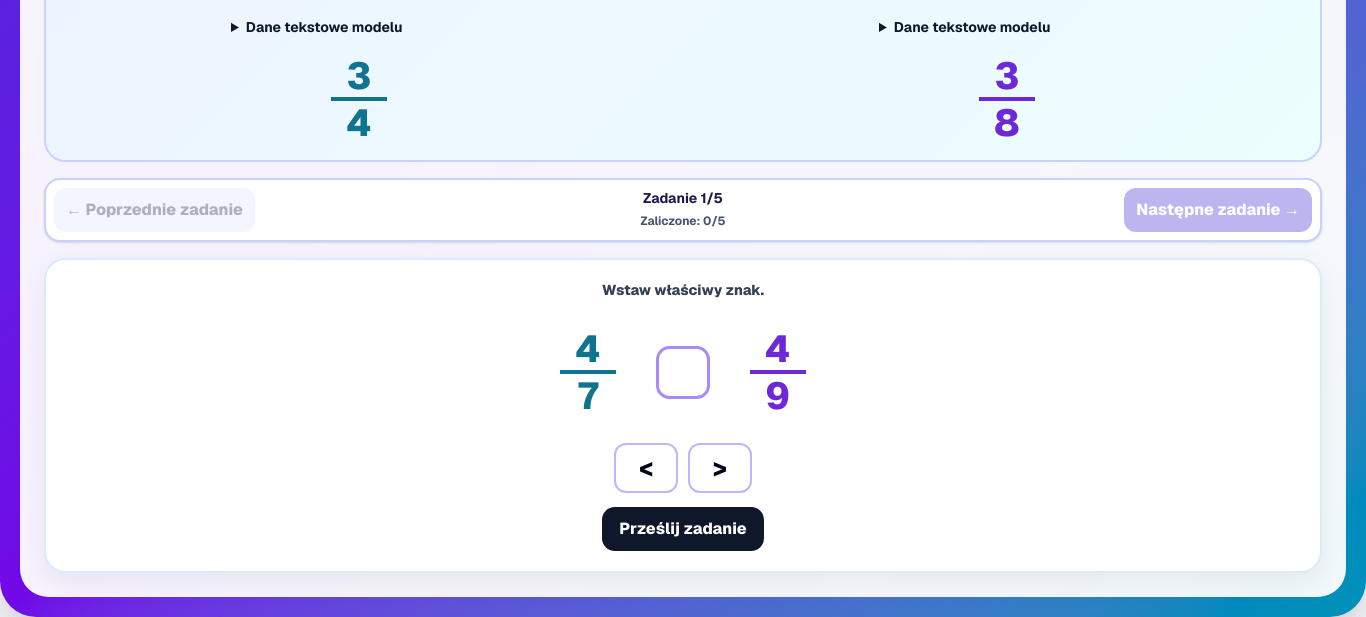
Test case: FractionComparisonLessonModel — modele, pionowy zapis, dotyk i diagnostyka › obejmuje ułamki niewłaściwe i liczby mieszane przy jednakowych licznikach
The image size is (1366, 617).
(page scrolled)
What coordinates should you click on to do the following:
click the button named "Wstaw znak >"
I would click on:
 (720, 468)
Its box is x1=688 y1=443 x2=752 y2=492.
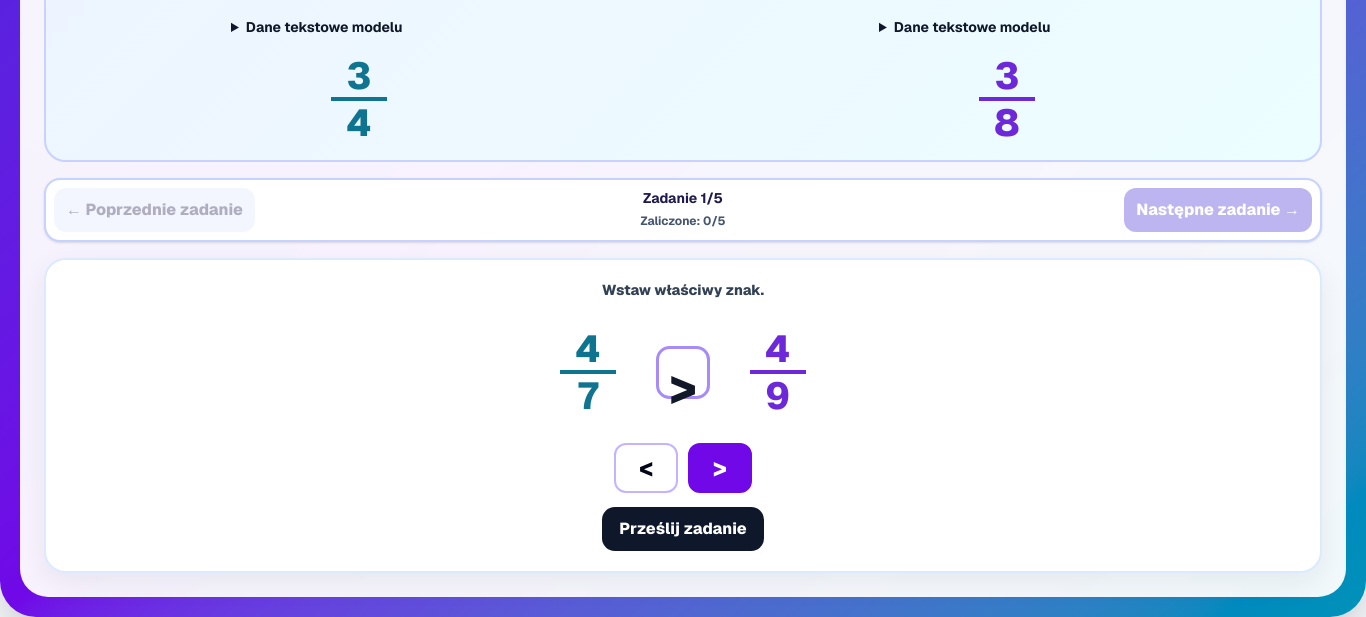
What coordinates should you click on to do the following:
click the button "Prześlij zadanie"
I would click on:
 (683, 529)
Its box is x1=602 y1=507 x2=764 y2=551.
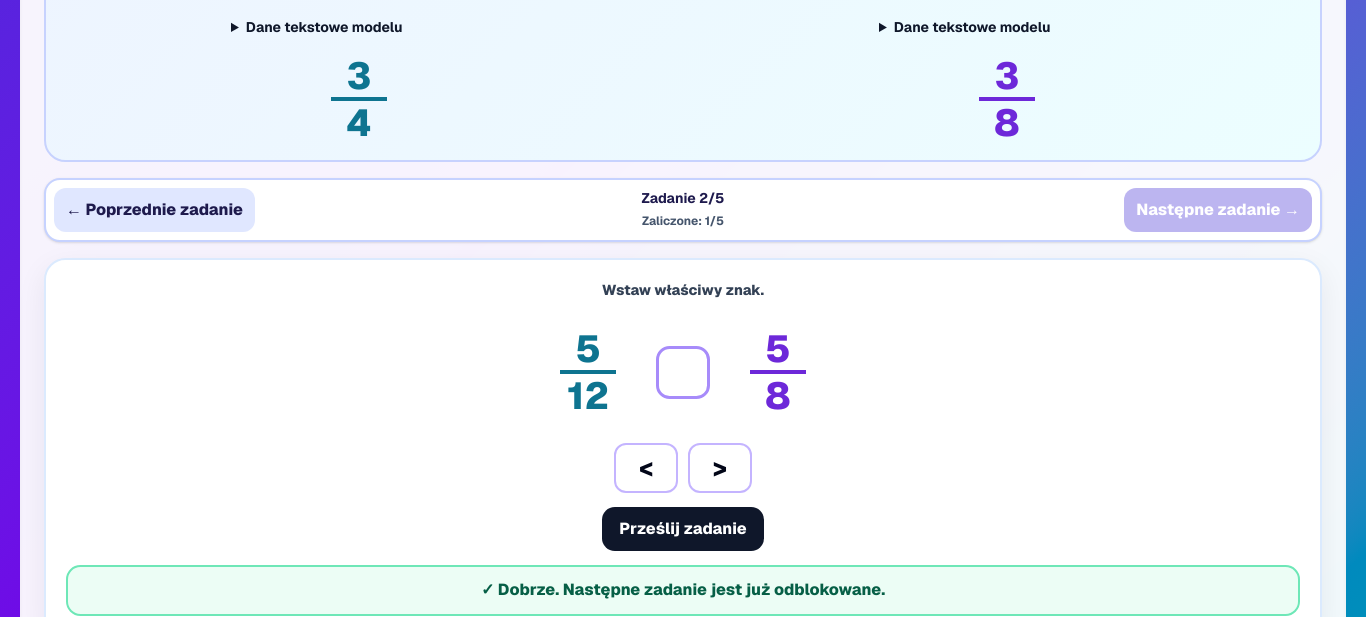
What coordinates should you click on to do the following:
click the button named "Wstaw znak <"
I would click on:
 (646, 468)
Its box is x1=614 y1=443 x2=678 y2=492.
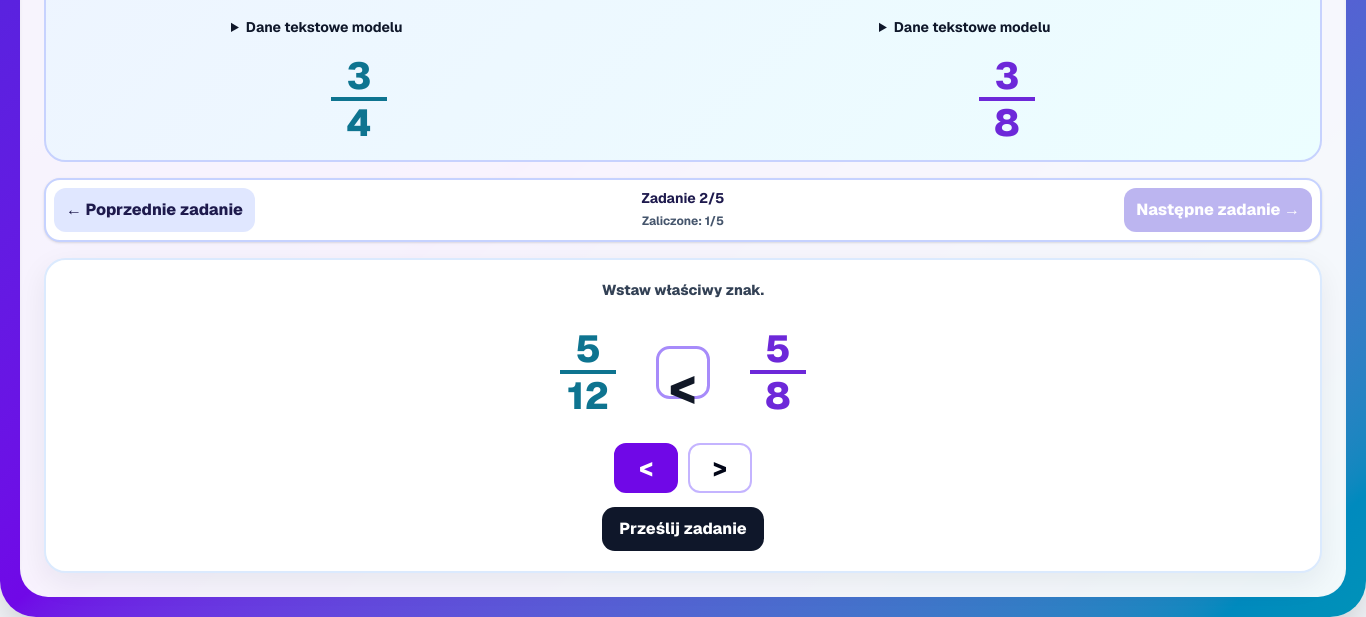
What coordinates should you click on to do the following:
click the button "Prześlij zadanie"
I would click on:
 (683, 529)
Its box is x1=602 y1=507 x2=764 y2=551.
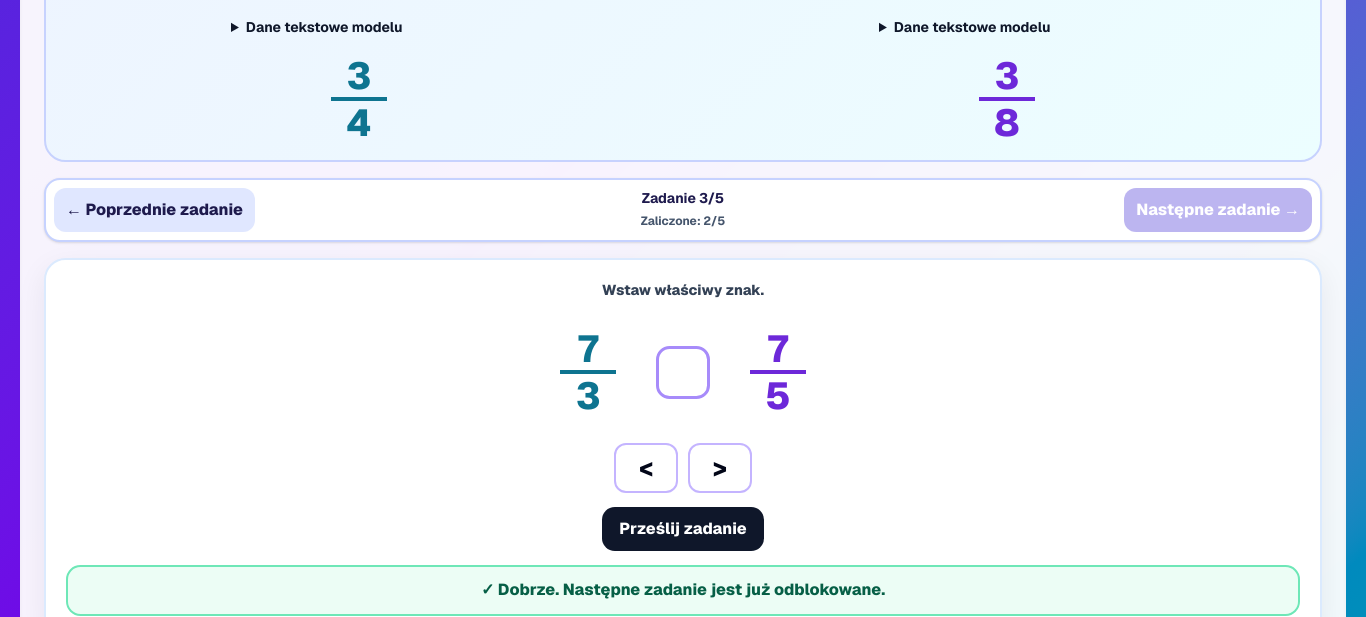
Result: the element named "7/3" is shown at x1=560 y1=330 x2=616 y2=415
What coordinates should you click on to do the following:
click the button named "Wstaw znak >"
I would click on:
 (720, 468)
Its box is x1=688 y1=443 x2=752 y2=492.
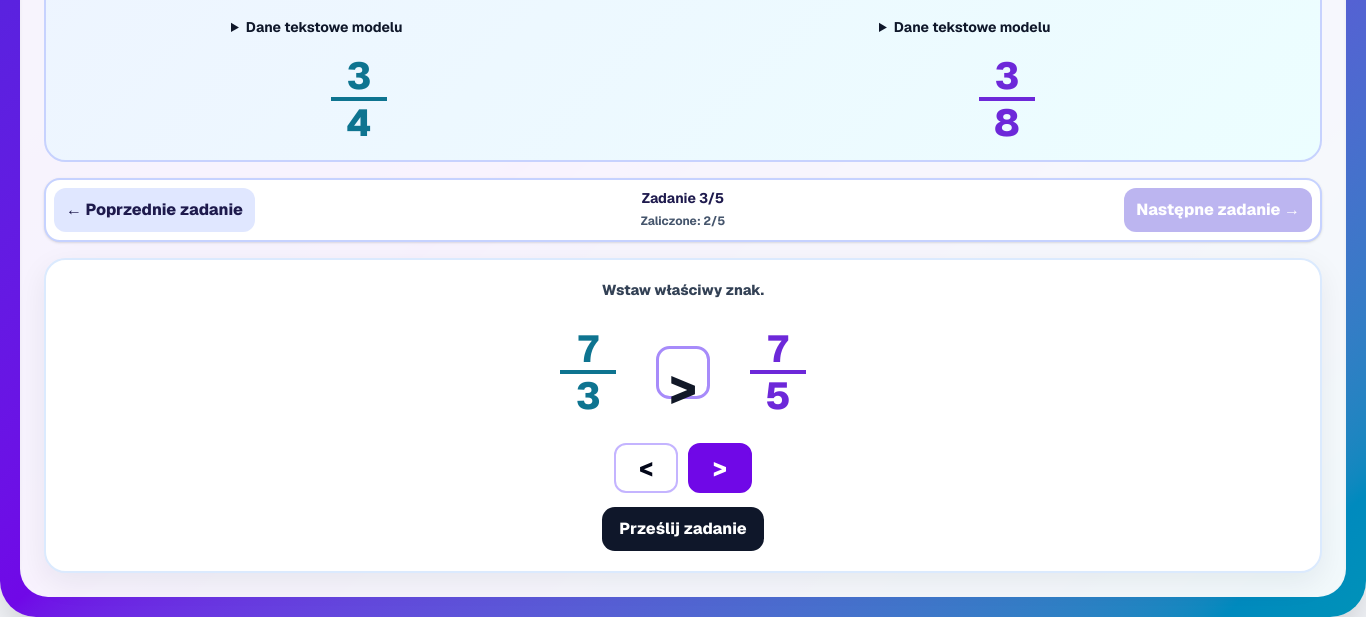
What coordinates should you click on to do the following:
click the button "Prześlij zadanie"
I would click on:
 (683, 529)
Its box is x1=602 y1=507 x2=764 y2=551.
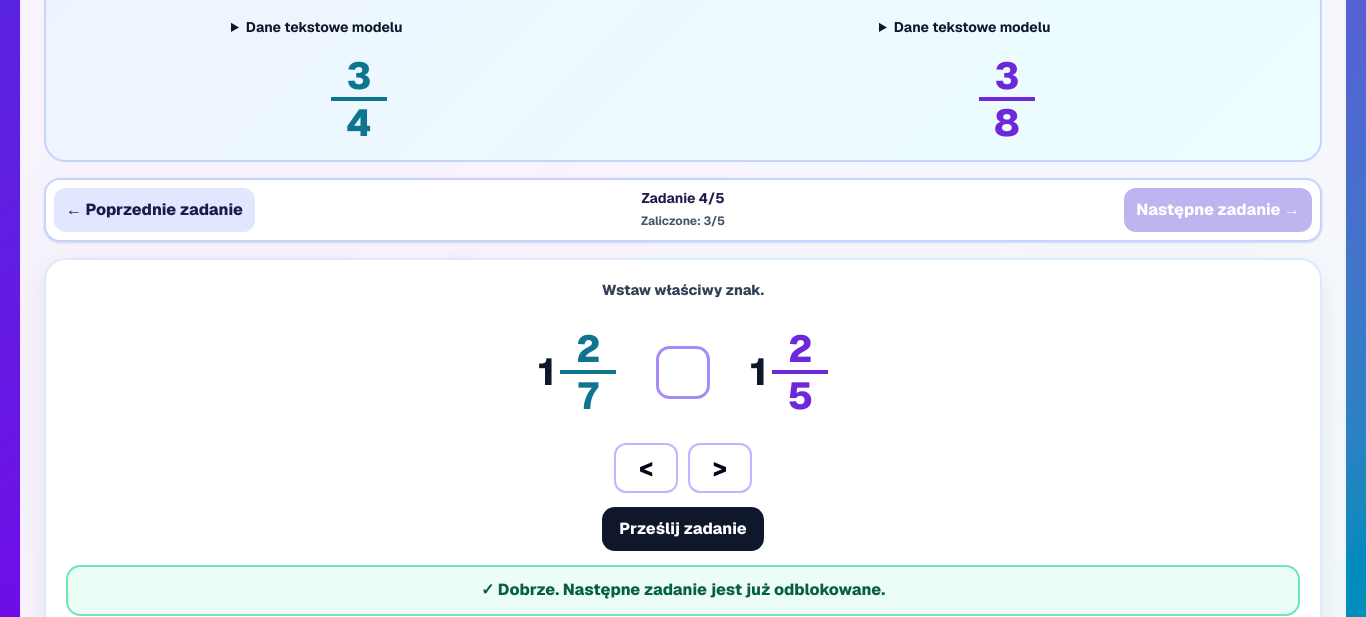
Result: the element named "1 2/7" is shown at x1=538 y1=330 x2=616 y2=415
Result: the element named "1 2/5" is shown at x1=750 y1=330 x2=828 y2=415
